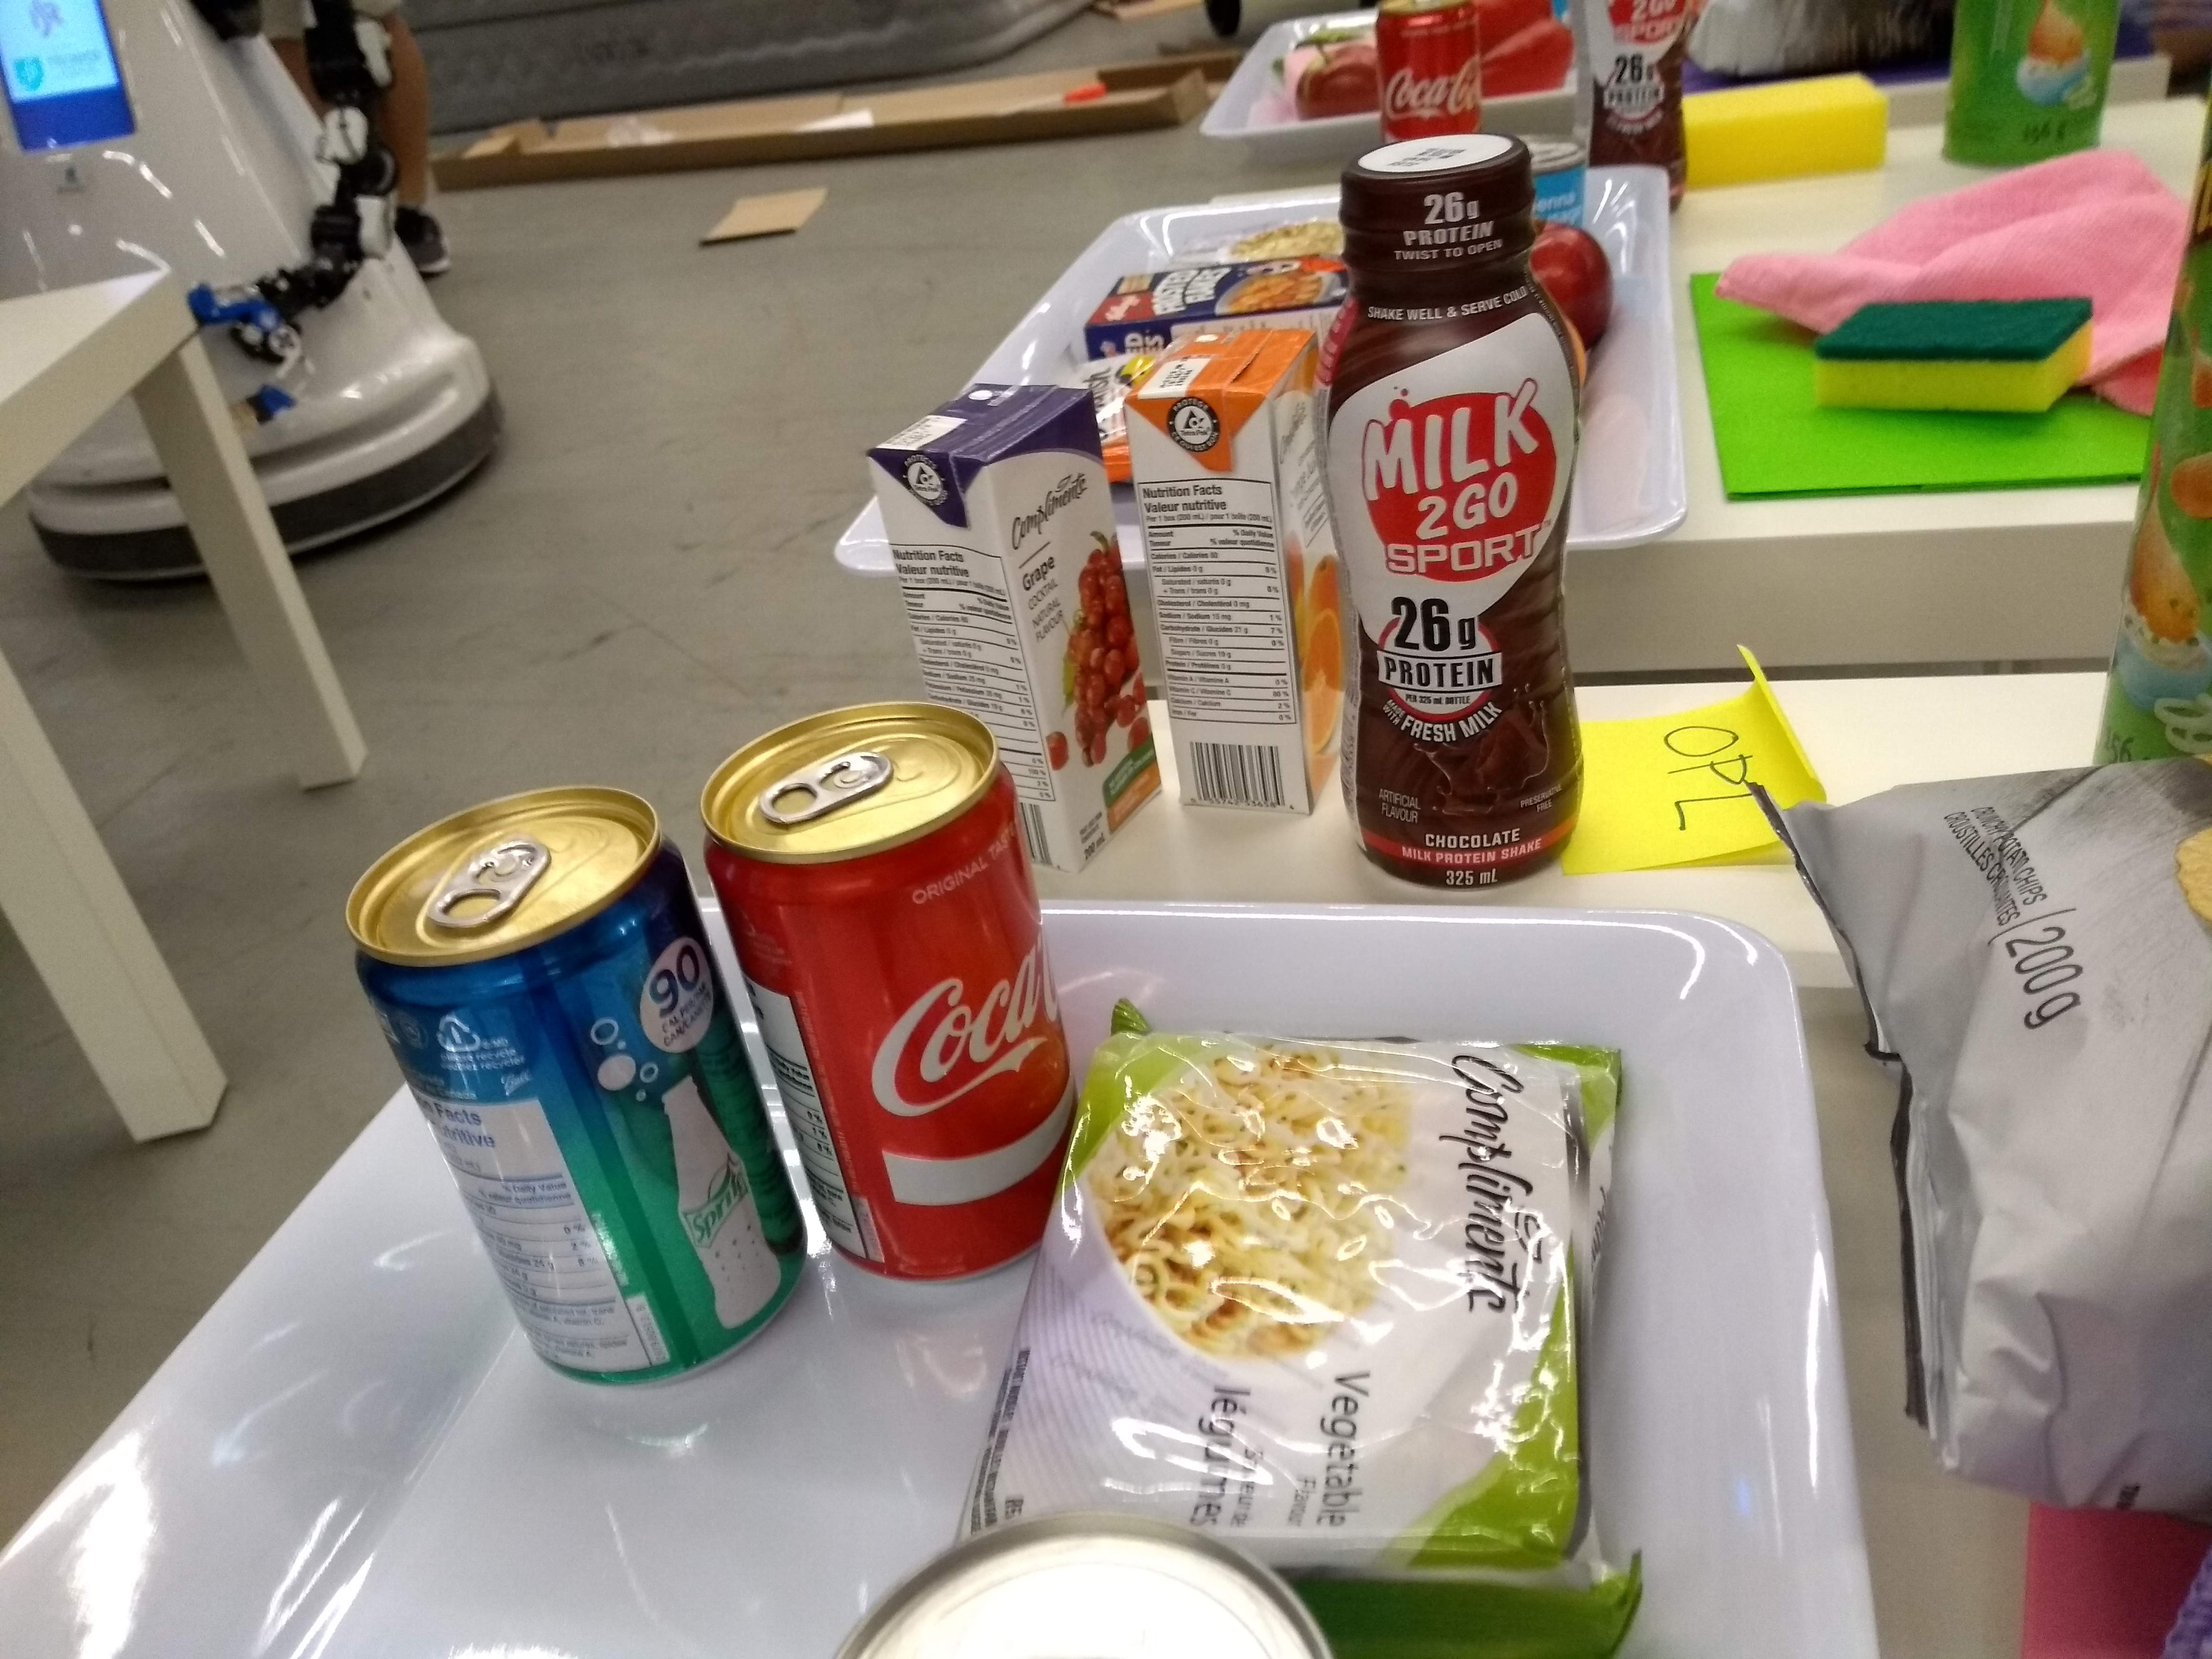cereal: (1069, 244, 1352, 350)
chocolate_drink: (1329, 120, 1604, 901)
coke: (688, 702, 1099, 1291), (1371, 2, 1493, 139)
grape_juice: (860, 378, 1165, 887)
noodles: (960, 988, 1641, 1659)
orange_juice: (1115, 331, 1346, 823)
scrubby: (1801, 281, 2107, 434)
sprite: (338, 774, 826, 1405)
